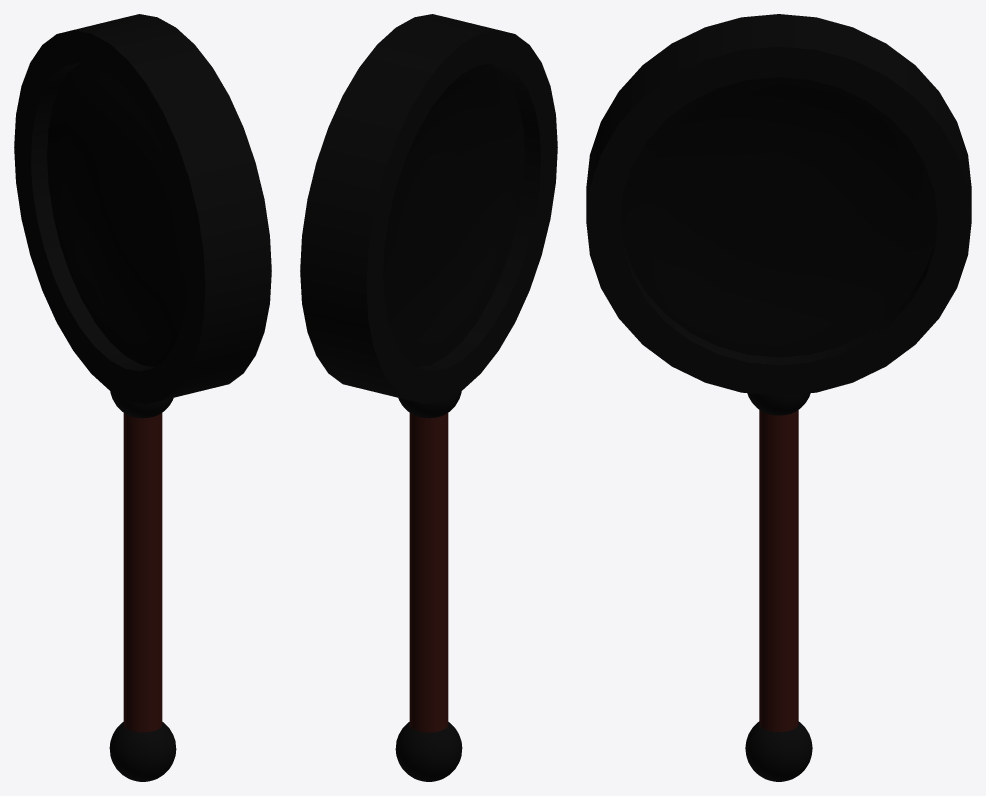
File: Magnifier.obj
The picture shows the model from 3 angles, left to right: view 1: azimuth 30°, elevation 25°; view 2: azimuth 150°, elevation 25°; view 3: azimuth 270°, elevation 25°; orthographic projection.
Parts seen in each view (by area): view 1: Cylinder.001, Cylinder, Cylinder.002_Cylinder.003, Sphere.001, Sphere; view 2: Cylinder.001, Cylinder, Cylinder.002_Cylinder.003, Sphere.001, Sphere; view 3: Cylinder, Cylinder.001, Cylinder.002_Cylinder.003, Sphere.001, Sphere.
Boxes of the visible parts, x1=… form: Cylinder.001: x1=14, y1=14, x2=271, y2=404; Cylinder: x1=47, y1=63, x2=188, y2=367; Cylinder.002_Cylinder.003: x1=123, y1=413, x2=162, y2=732; Sphere.001: x1=109, y1=722, x2=176, y2=781; Sphere: x1=110, y1=391, x2=173, y2=418; Cylinder.001: x1=300, y1=14, x2=557, y2=404; Cylinder: x1=383, y1=63, x2=524, y2=367; Cylinder.002_Cylinder.003: x1=409, y1=413, x2=448, y2=732; Sphere.001: x1=395, y1=722, x2=462, y2=781; Sphere: x1=398, y1=391, x2=461, y2=418; Cylinder: x1=620, y1=77, x2=937, y2=357; Cylinder.001: x1=586, y1=14, x2=971, y2=395; Cylinder.002_Cylinder.003: x1=759, y1=410, x2=798, y2=731; Sphere.001: x1=745, y1=721, x2=812, y2=781; Sphere: x1=747, y1=393, x2=810, y2=415.
Bounding box in the file's own units: 2.29 × 24.58 × 11.47.
